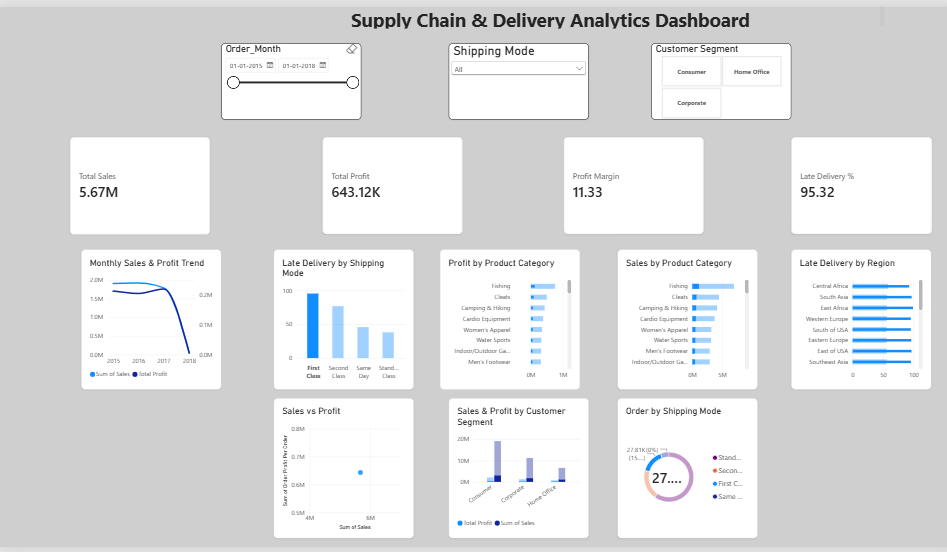

This screenshot's page, from the dashboard's own definition file:
{"tool":"powerbi","page":{"name":"Page 1","canvas":[1920,1080],"ordinal":0},"visuals":[{"type":"lineChart","title":"Monthly Sales & Profit Trend","fields":{"Category":["supply_chain_clean.Order_Month.Variation.Date Hierarchy.Year","supply_chain_clean.Order_Month.Variation.Date Hierarchy.Quarter","supply_chain_clean.Order_Month.Variation.Date Hierarchy.Month","supply_chain_clean.Order_Month.Variation.Date Hierarchy.Day"],"Y":["Sum(supply_chain_clean.Sales)"],"Y2":["supply_chain_clean.Total Profit"]},"box":[162.5,485,280,280],"z":0},{"type":"clusteredColumnChart","title":"Late Delivery by Shipping Mode","fields":{"Category":["supply_chain_clean.Shipping Mode"],"Y":["supply_chain_clean.Late Delivery %"]},"box":[547.5,485,280,280],"z":1000},{"type":"clusteredBarChart","title":"Profit by Product Category","fields":{"Category":["supply_chain_clean.Category Name"],"Y":["supply_chain_clean.Total Profit"]},"box":[880,485,280,280],"z":2000},{"type":"clusteredBarChart","title":"Sales by Product Category","fields":{"Category":["supply_chain_clean.Category Name"],"Y":["Sum(supply_chain_clean.Sales)"]},"box":[1235,485,280,280],"z":3000},{"type":"clusteredBarChart","title":"Late Delivery by Region","fields":{"Category":["supply_chain_clean.Order Region"],"Y":["supply_chain_clean.Late Delivery %"]},"box":[1582.5,485,280,280],"z":4000},{"type":"clusteredColumnChart","title":"Sales & Profit by Customer Segment","fields":{"Category":["supply_chain_clean.Customer Segment"],"Y":["supply_chain_clean.Total Profit","Sum(supply_chain_clean.Sales)"]},"box":[897.5,782.5,280,280],"z":5000},{"type":"donutChart","title":"Order by Shipping Mode","fields":{"Category":["supply_chain_clean.Shipping Mode"],"Y":["CountNonNull(supply_chain_clean.Order Id)"]},"box":[1235,782.5,280,280],"z":6000},{"type":"scatterChart","title":"Sales vs Profit","fields":{"X":["Sum(supply_chain_clean.Sales)"],"Y":["Sum(supply_chain_clean.Order Profit Per Order)"]},"box":[547.5,782.5,280,280],"z":7000},{"type":"slicer","fields":{"Values":["supply_chain_clean.Shipping Mode"]},"box":[897.5,72.5,280,152.5],"z":8000},{"type":"slicer","fields":{"Values":["supply_chain_clean.Customer Segment"]},"box":[1302.5,72.5,280,152.5],"z":9000},{"type":"slicer","fields":{"Values":["supply_chain_clean.Order_Month"]},"box":[442.5,72.5,280,152.5],"z":10000},{"type":"cardVisual","fields":{"Data":["supply_chain_clean.Total Sales"]},"box":[140,260,280,195],"z":11000},{"type":"cardVisual","fields":{"Data":["supply_chain_clean.Total Profit"]},"box":[645,260,280,194.3],"z":12000},{"type":"cardVisual","fields":{"Data":["supply_chain_clean.Late Delivery %"]},"box":[1582.5,260,281.4,194.3],"z":13000},{"type":"cardVisual","fields":{"Data":["supply_chain_clean.Profit Margin"]},"box":[1127.5,260,280,194.3],"z":14000},{"type":"textbox","box":[441.4,0,1325.7,42.9],"z":15000}]}

Visuals, with their boxes in screenshot pixels (x1, y1, x2, y2):
"Monthly Sales & Profit Trend" lineChart: (x1=75, y1=247, x2=216, y2=388)
"Late Delivery by Shipping Mode" clusteredColumnChart: (x1=269, y1=247, x2=410, y2=388)
"Profit by Product Category" clusteredBarChart: (x1=436, y1=247, x2=578, y2=388)
"Sales by Product Category" clusteredBarChart: (x1=615, y1=247, x2=757, y2=388)
"Late Delivery by Region" clusteredBarChart: (x1=791, y1=247, x2=932, y2=388)
"Sales & Profit by Customer Segment" clusteredColumnChart: (x1=445, y1=397, x2=586, y2=538)
"Order by Shipping Mode" donutChart: (x1=615, y1=397, x2=757, y2=538)
"Sales vs Profit" scatterChart: (x1=269, y1=397, x2=410, y2=538)
slicer - supply_chain_clean.Shipping Mode: (x1=445, y1=39, x2=586, y2=116)
slicer - supply_chain_clean.Customer Segment: (x1=649, y1=39, x2=791, y2=116)
slicer - supply_chain_clean.Order_Month: (x1=216, y1=39, x2=357, y2=116)
cardVisual - supply_chain_clean.Total Sales: (x1=63, y1=134, x2=204, y2=232)
cardVisual - supply_chain_clean.Total Profit: (x1=318, y1=134, x2=459, y2=232)
cardVisual - supply_chain_clean.Late Delivery %: (x1=791, y1=134, x2=933, y2=232)
cardVisual - supply_chain_clean.Profit Margin: (x1=561, y1=134, x2=702, y2=232)
textbox: (x1=215, y1=2, x2=884, y2=24)
